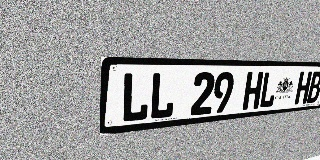2: (191, 72, 216, 116)
9: (211, 72, 235, 113)
B: (306, 72, 320, 103)
H: (242, 72, 264, 110), (294, 72, 312, 105)
L: (120, 72, 151, 123), (149, 72, 177, 120), (258, 72, 279, 108)
